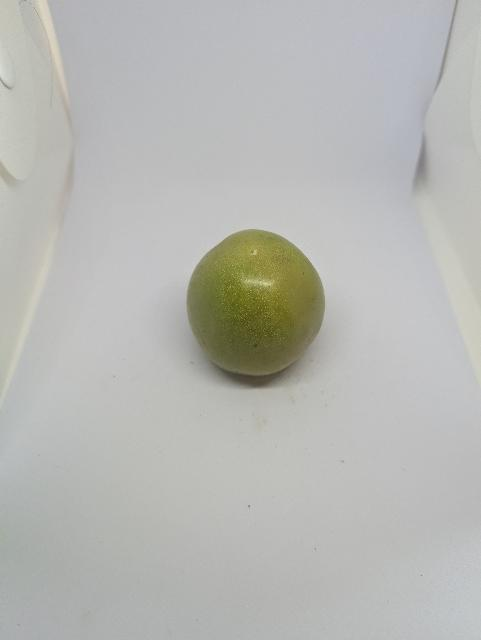green: (162, 209, 333, 382)
